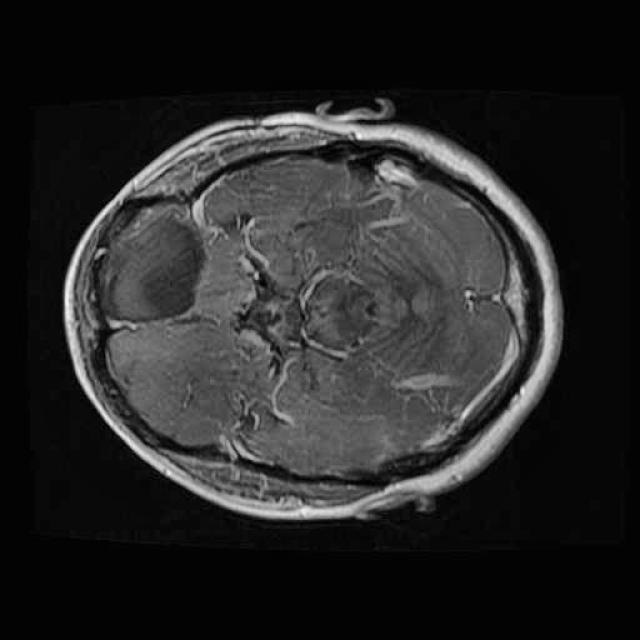Tumor: (86, 192, 216, 336)
